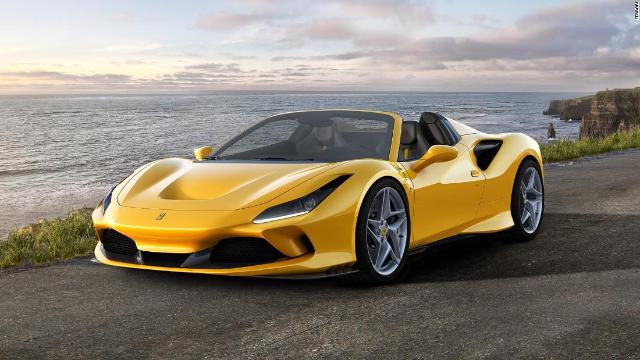ferrari: (90, 109, 544, 283)
